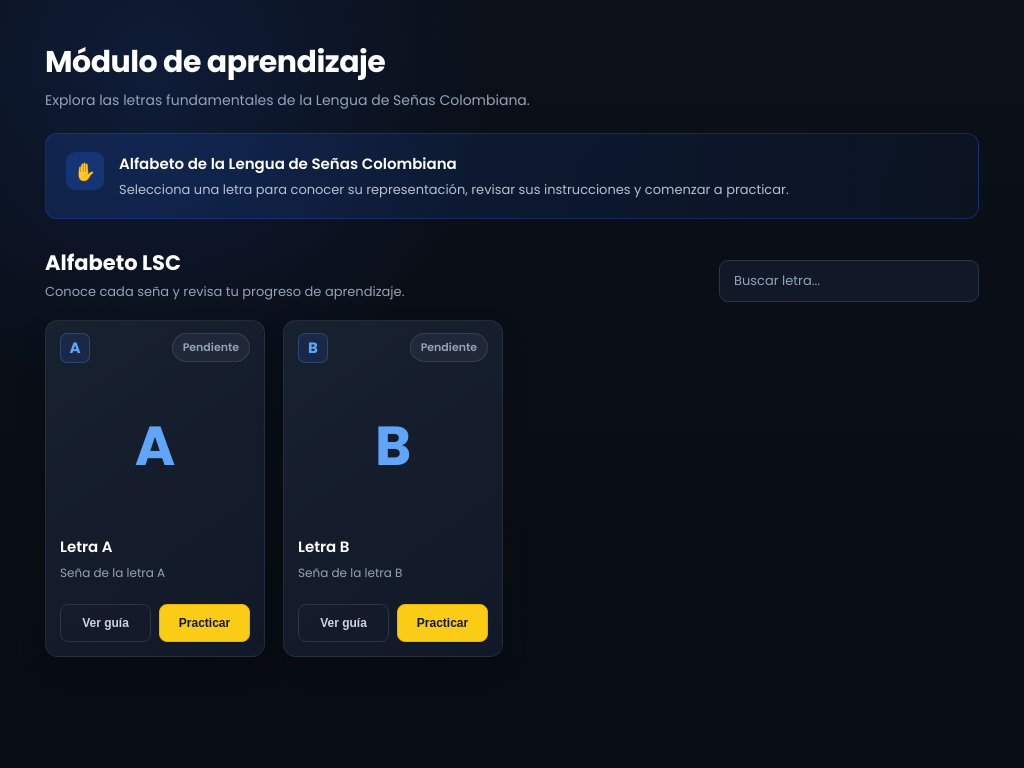
Test case: Modulo Aprender › cierra el detalle con su boton
What coordinates should you click on to do the following:
click the button named "Ver detalle de la letra A"
I would click on:
 (155, 446)
Its box is [60,370,250,520].
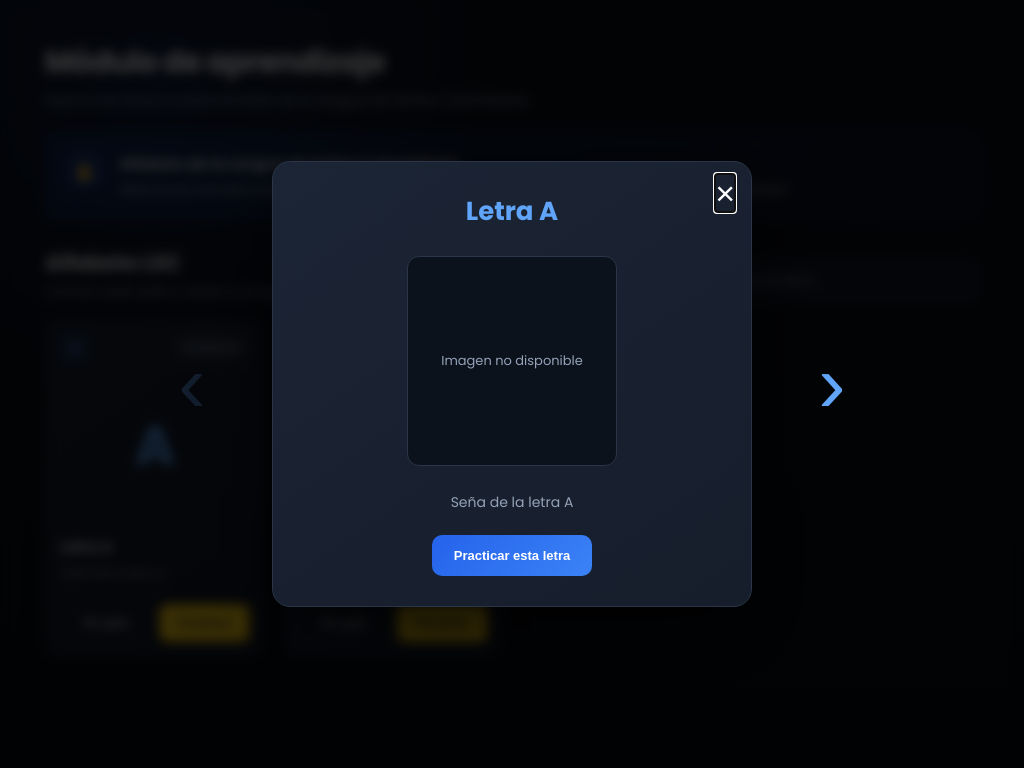
What coordinates should you click on to do the following:
click the button named "Cerrar"
I would click on:
 (725, 193)
Its box is [715,176,735,210].
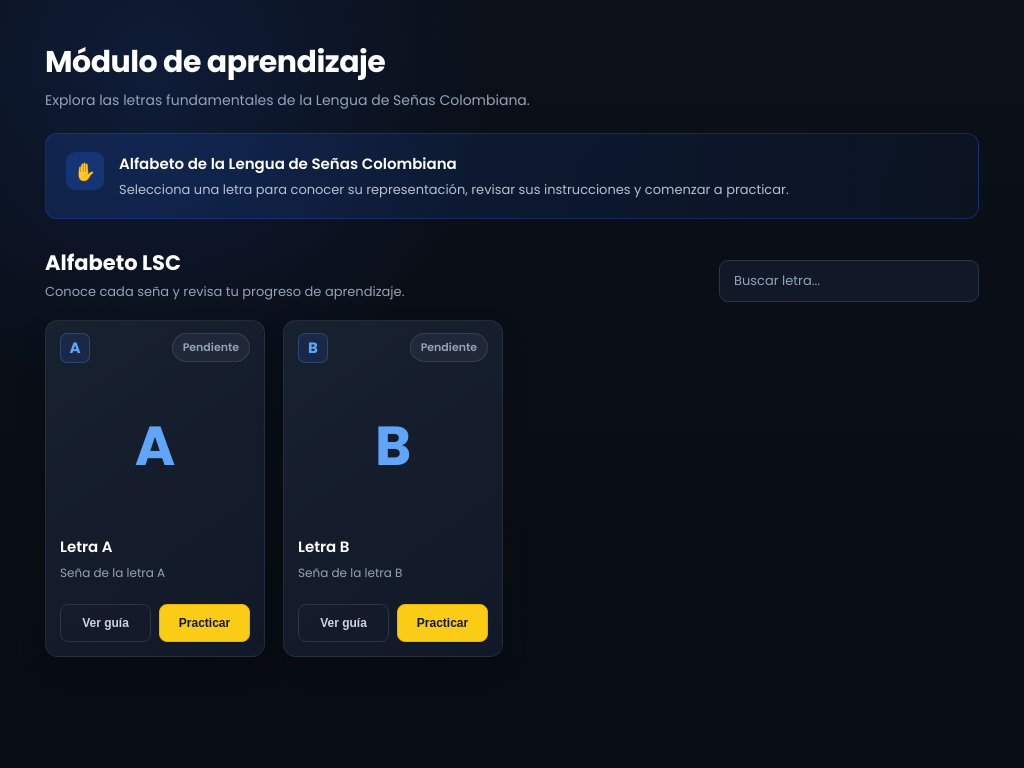
Now the dialog is gone
